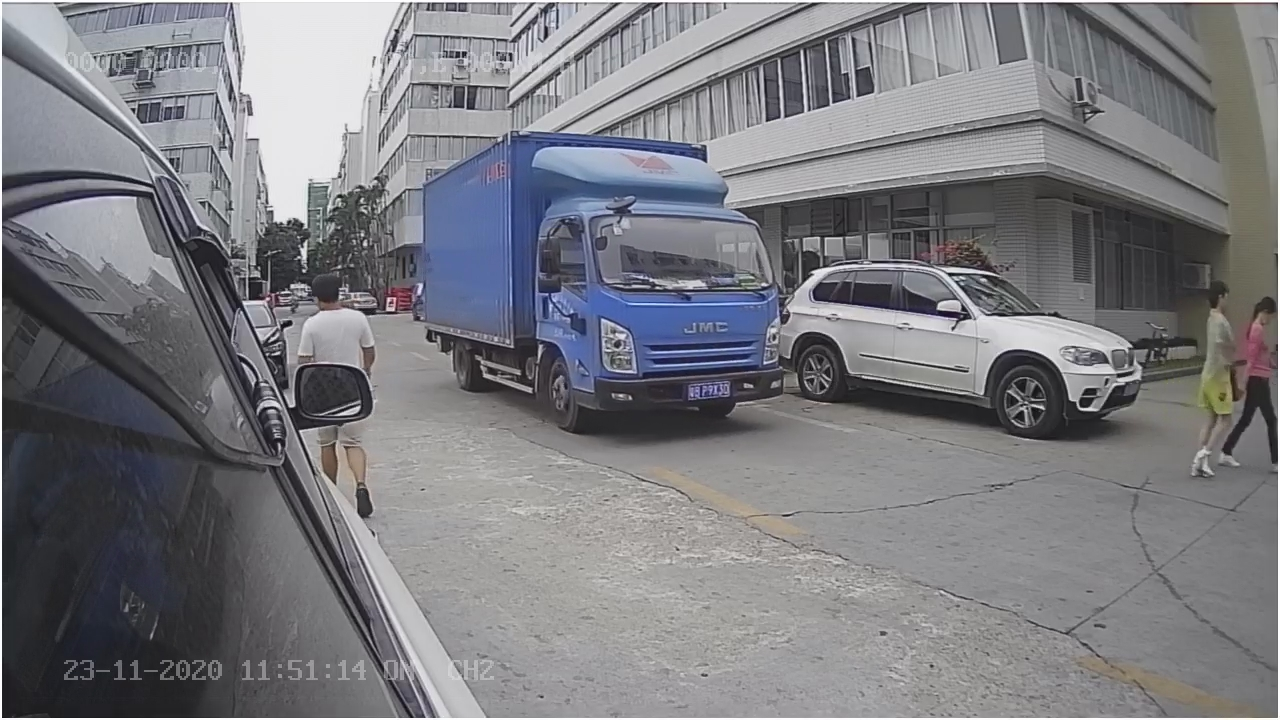person: (1160, 272, 1250, 480)
